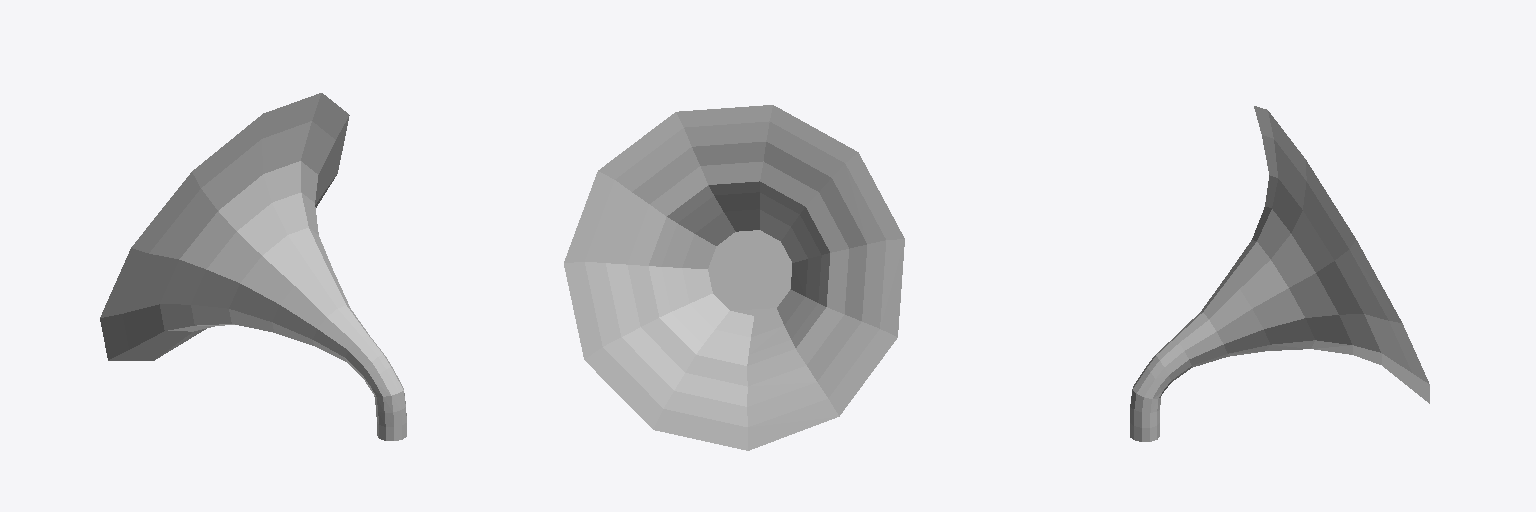
Rendered from Phonographe-Cylindre_BASE.obj.
3 renders of one model, left to right at view 1: azimuth 30°, elevation 25°; view 2: azimuth 150°, elevation 25°; view 3: azimuth 270°, elevation 25°, orthographic.
Parts seen in each view (by area): view 1: Cylinder_BASE002; view 2: Cylinder_BASE002; view 3: Cylinder_BASE002.
Boxes of the visible parts, box(x1,y1,x2,y2) form: Cylinder_BASE002: box(100, 93, 406, 440); Cylinder_BASE002: box(564, 105, 904, 450); Cylinder_BASE002: box(1130, 106, 1429, 441).
Size of the model in its own units: 19.6 by 19.18 by 17.79.